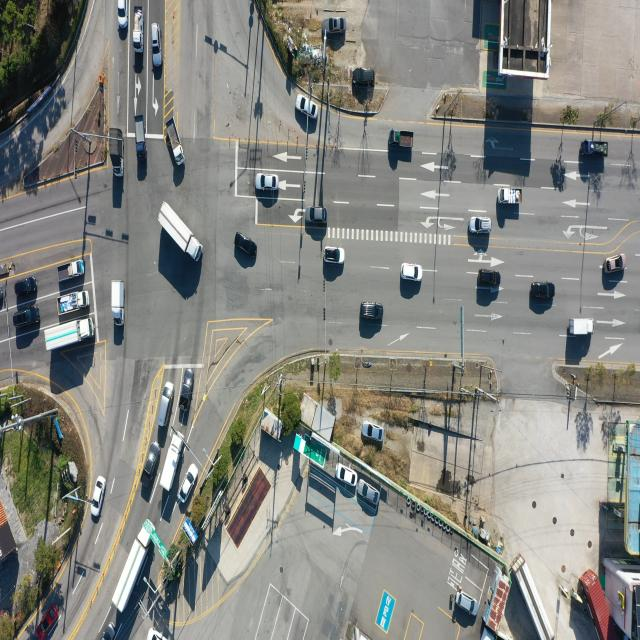car: (140, 442, 159, 491), (37, 603, 62, 640), (178, 464, 198, 504), (182, 369, 196, 425), (158, 382, 174, 429), (92, 475, 107, 517), (294, 92, 317, 118), (12, 308, 39, 330), (233, 231, 255, 257), (455, 590, 476, 617), (150, 24, 162, 68), (604, 252, 626, 276), (336, 463, 358, 486), (358, 482, 378, 506), (530, 282, 555, 300), (16, 276, 38, 296), (361, 303, 384, 322), (353, 67, 375, 86), (255, 173, 278, 191), (364, 422, 384, 442), (479, 271, 502, 288), (402, 265, 423, 283), (325, 247, 346, 265), (469, 216, 491, 233), (146, 625, 170, 640), (326, 18, 346, 34), (308, 207, 327, 223), (117, 0, 127, 28), (102, 621, 116, 640)
medium_truck: (115, 518, 156, 614), (517, 552, 557, 638), (162, 200, 205, 264), (45, 317, 96, 355), (158, 430, 183, 490)
small_truck: (165, 118, 186, 168), (59, 289, 90, 315), (57, 260, 85, 285), (111, 279, 125, 325), (110, 129, 123, 173), (496, 186, 522, 205), (568, 318, 593, 337), (135, 4, 145, 51), (583, 140, 609, 158), (389, 130, 414, 148), (136, 116, 146, 155)
